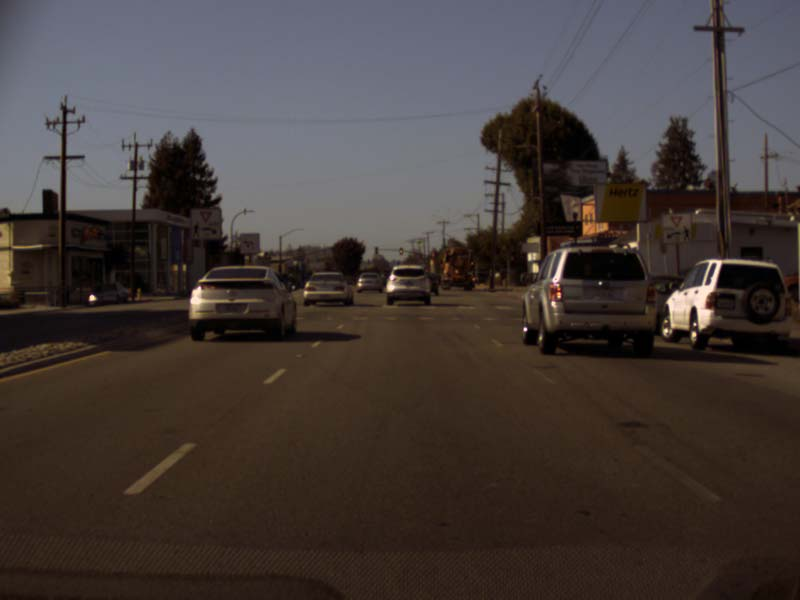Yellow: (399, 248, 402, 254)
